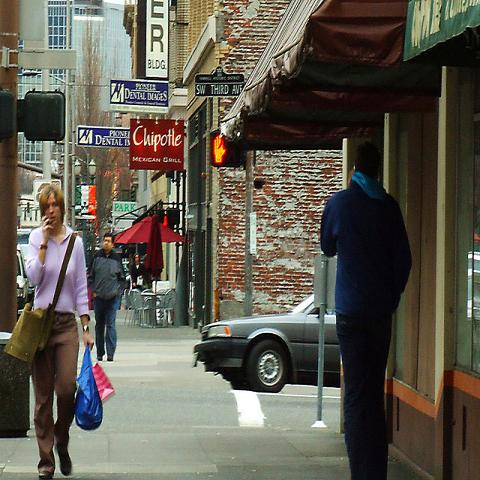car: (191, 289, 341, 391), (15, 242, 28, 314)
